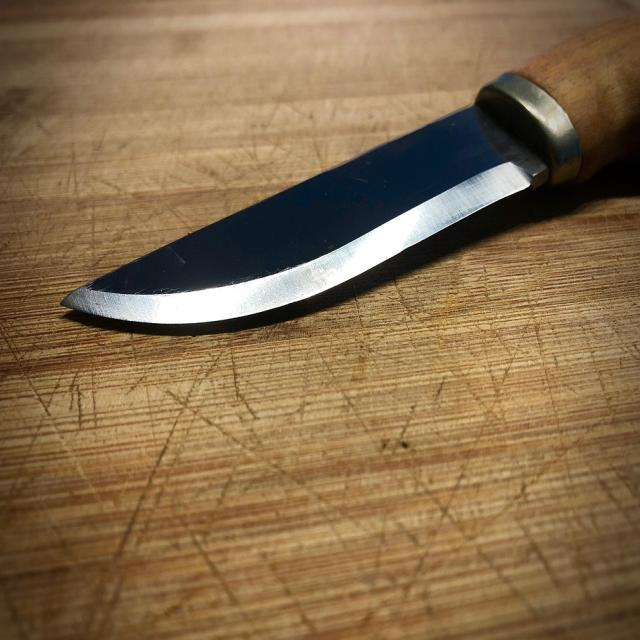Knife: (61, 15, 640, 323)
